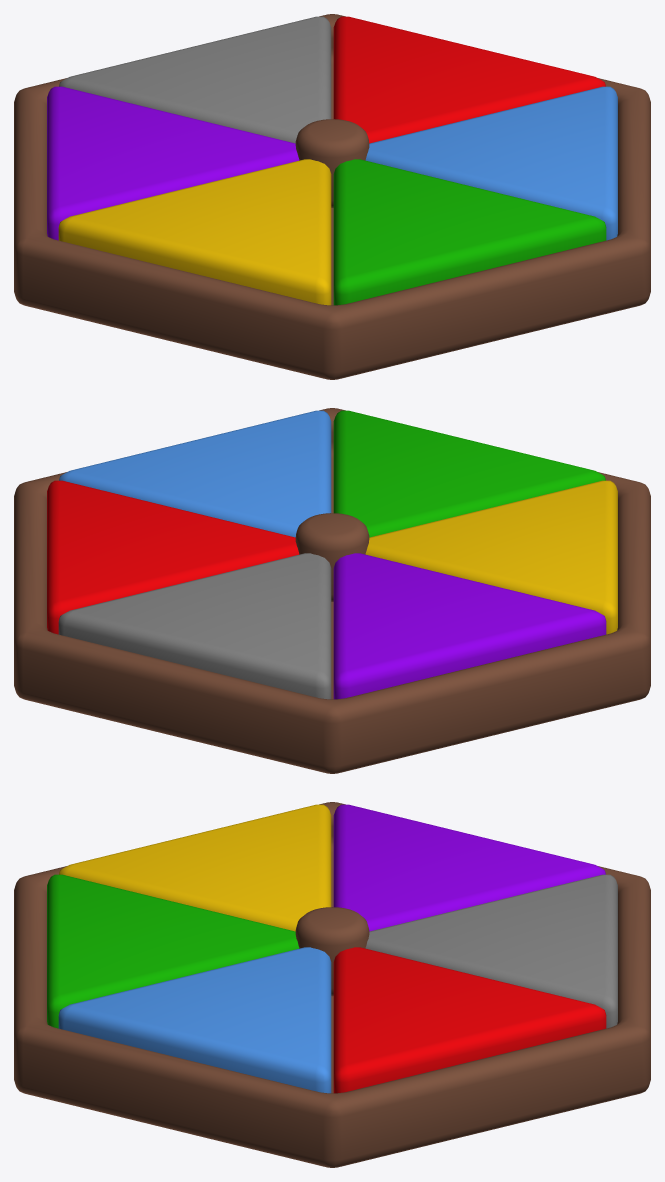
File: tile.fbx
3 renders of one model, top to bottom at view 1: azimuth 30°, elevation 25°; view 2: azimuth 150°, elevation 25°; view 3: azimuth 270°, elevation 25°, orthographic.
Visible parts, largest first — view 1: ND — Sketch.002; view 2: ND — Sketch.002; view 3: ND — Sketch.002.
Part boxes in pixels (bbox=[...]): ND — Sketch.002: bbox=[14, 14, 650, 379]; ND — Sketch.002: bbox=[14, 408, 650, 773]; ND — Sketch.002: bbox=[14, 802, 650, 1167].
Bounding box in the file's own units: 1.98 × 0.3 × 1.73.
